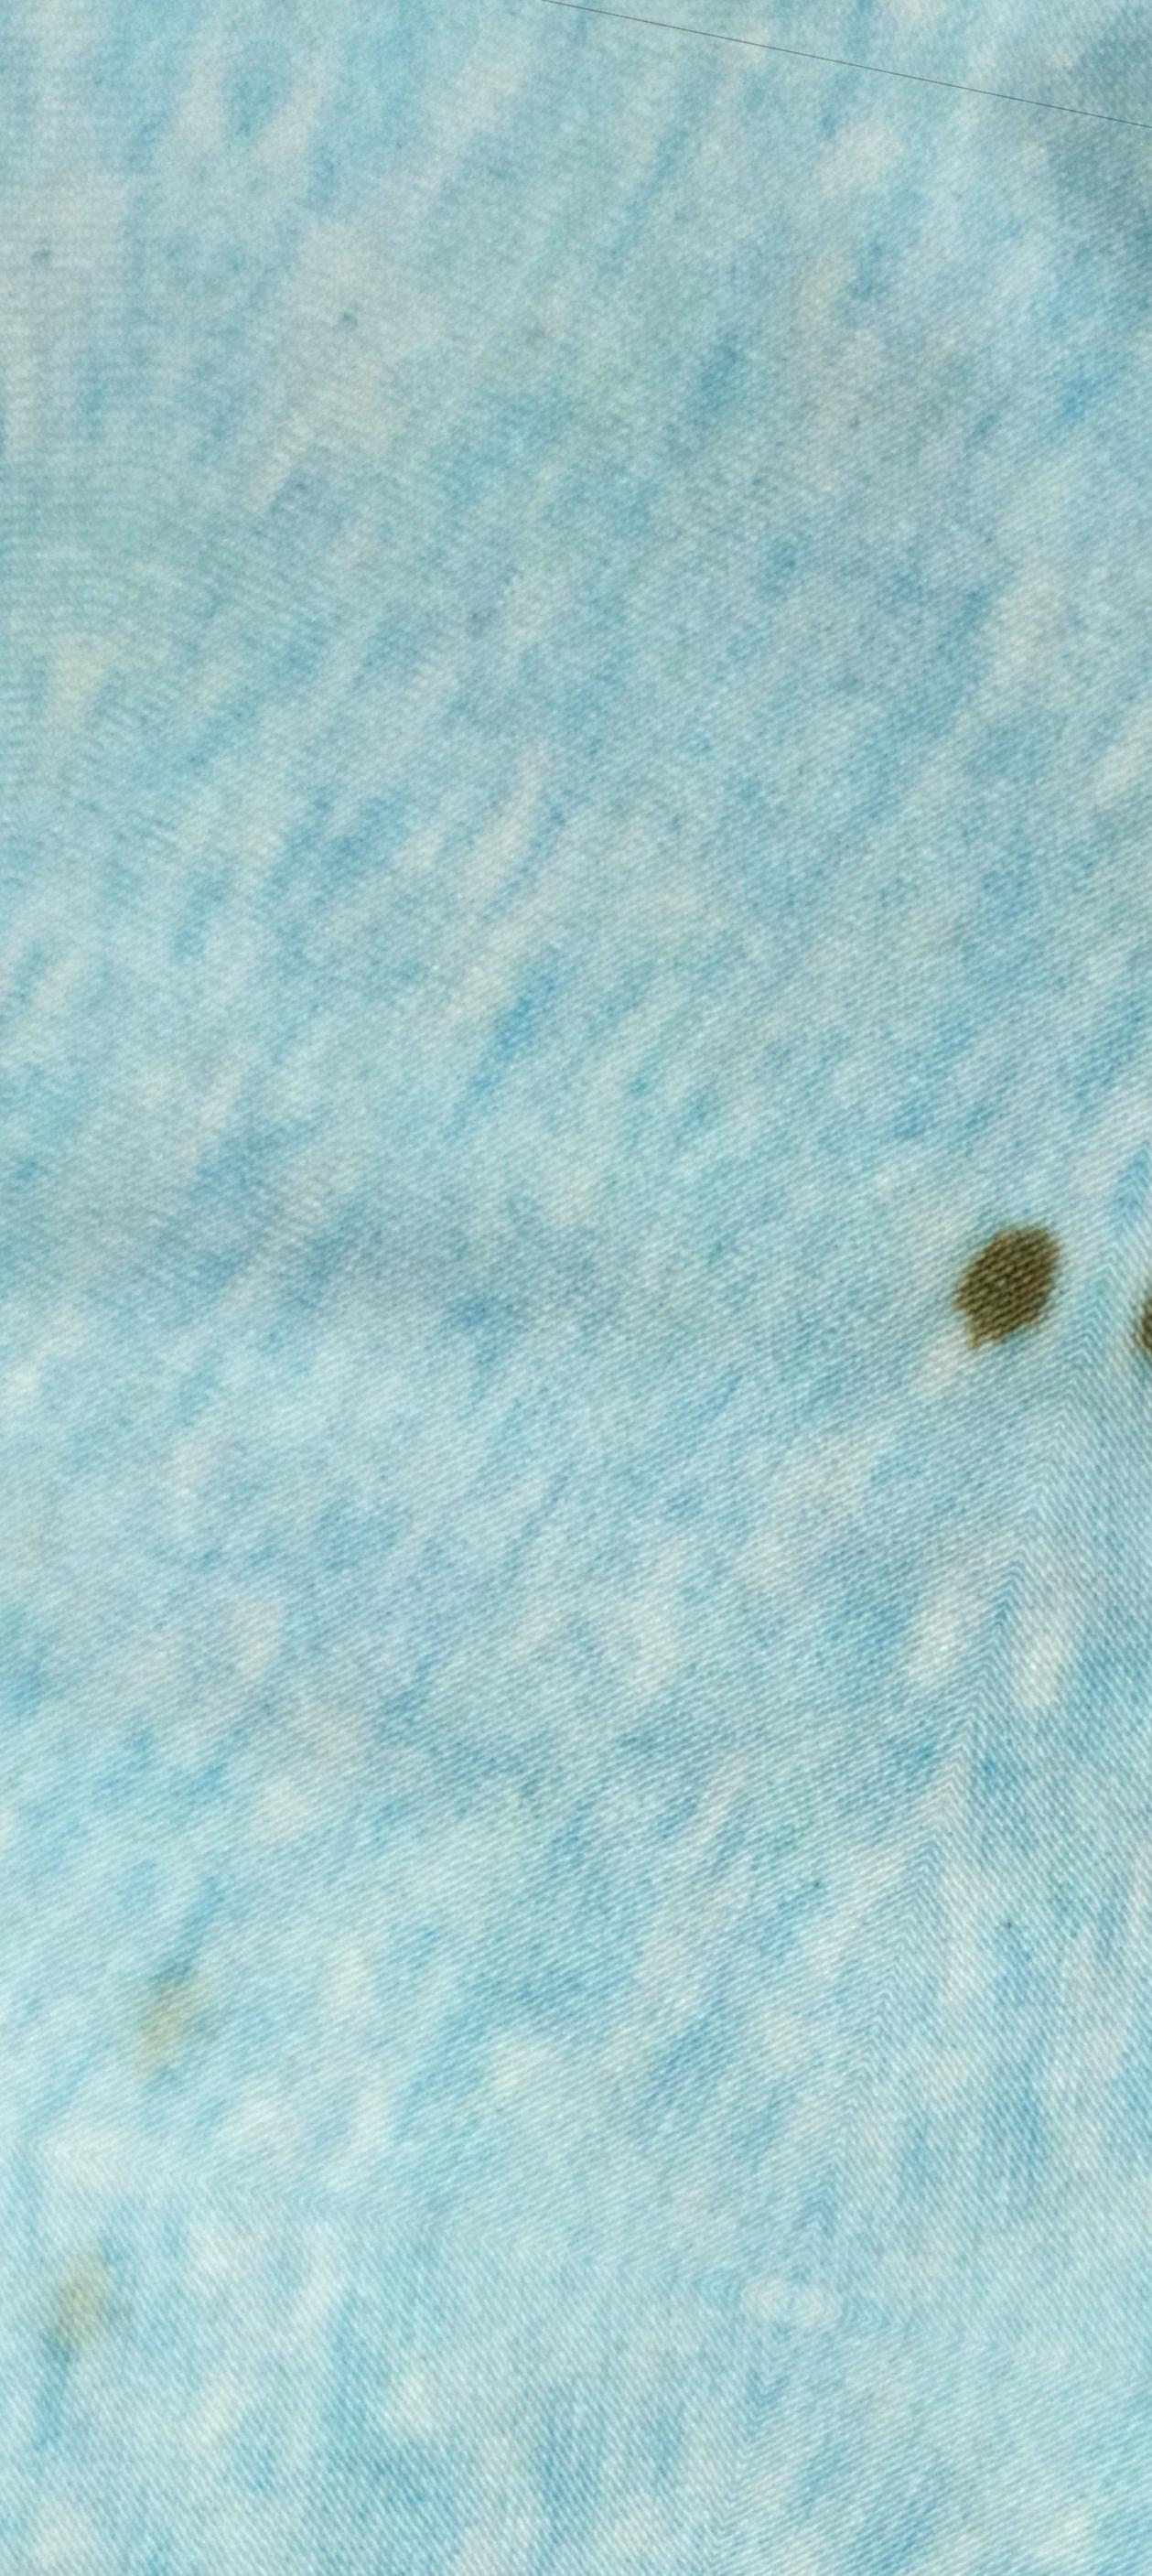stain: (942, 1214, 1090, 1377)
